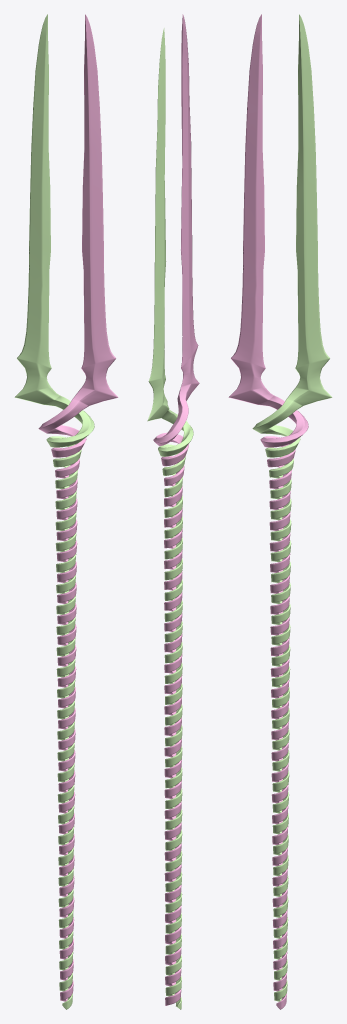
The model's file is Spear_of_Longinus.glb.
3 views of the same model, side by side, from view 1: azimuth 90°, elevation 25°; view 2: azimuth 150°, elevation 25°; view 3: azimuth 270°, elevation 25° (orthographic).
Visible parts, largest first — view 1: Spear_of_Longinus_2021_6_4; view 2: Spear_of_Longinus_2021_6_4; view 3: Spear_of_Longinus_2021_6_4.
Boxes of the visible parts, x1,y1,x2,y2 form: Spear_of_Longinus_2021_6_4: (14,14,118,1009); Spear_of_Longinus_2021_6_4: (147,14,199,1009); Spear_of_Longinus_2021_6_4: (228,14,332,1009).
Bounding box in the file's own units: 0.0314 × 0.9729 × 0.0925.
